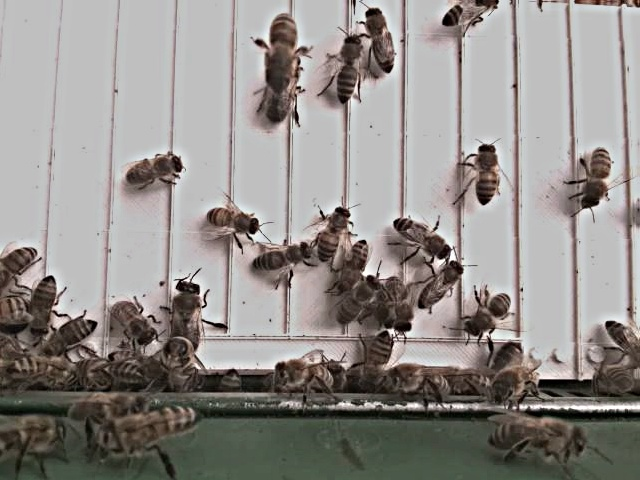Drone: (166, 276, 209, 347)
Worker: (319, 30, 371, 102), (199, 199, 270, 246), (105, 294, 165, 349), (331, 272, 388, 326), (390, 212, 453, 260), (388, 358, 456, 402), (123, 146, 186, 189), (462, 287, 516, 337), (578, 141, 616, 211), (264, 11, 300, 82), (365, 3, 402, 72), (418, 260, 466, 313), (7, 350, 75, 387), (328, 237, 373, 292), (471, 137, 506, 206), (255, 237, 315, 277), (46, 314, 102, 356), (28, 270, 62, 339), (315, 202, 354, 261), (382, 269, 415, 334), (362, 325, 398, 383), (92, 351, 150, 384), (277, 362, 338, 391)
